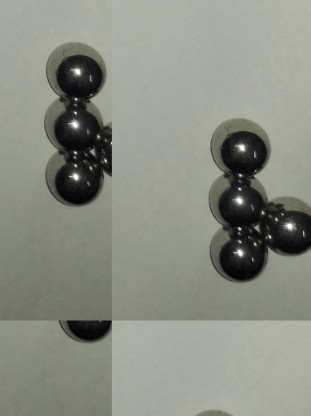ironball: (204, 111, 273, 177), (31, 93, 104, 150), (41, 145, 106, 209), (202, 223, 269, 284), (254, 191, 311, 260), (206, 168, 267, 230), (45, 40, 108, 100), (54, 318, 110, 348), (91, 116, 117, 174)
